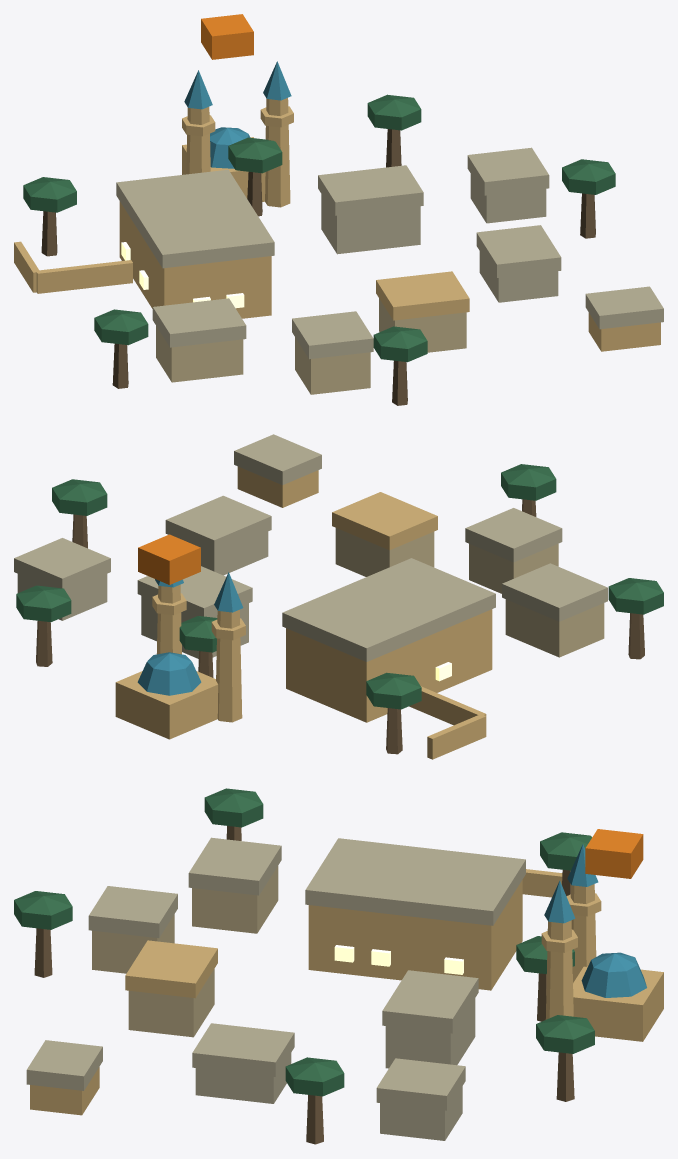
The model's file is overworld-settlement-middle-eastern-rural.glb.
3 renders of one model, top to bottom at view 1: azimuth 30°, elevation 25°; view 2: azimuth 150°, elevation 25°; view 3: azimuth 270°, elevation 25°, orthographic. The views are drawn at different scales.
Visible parts, largest first — view 1: settlement; view 2: settlement; view 3: settlement.
Boxes of the visible parts, x1,y1,x2,y2 form: settlement: (14,14,663,405); settlement: (14,434,663,759); settlement: (14,788,663,1144).
Bounding box in the file's own units: 0.5151 × 0.147 × 0.4816.
